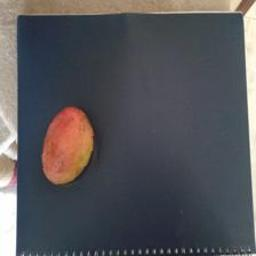Mango Semifresh: (38, 102, 102, 192)
